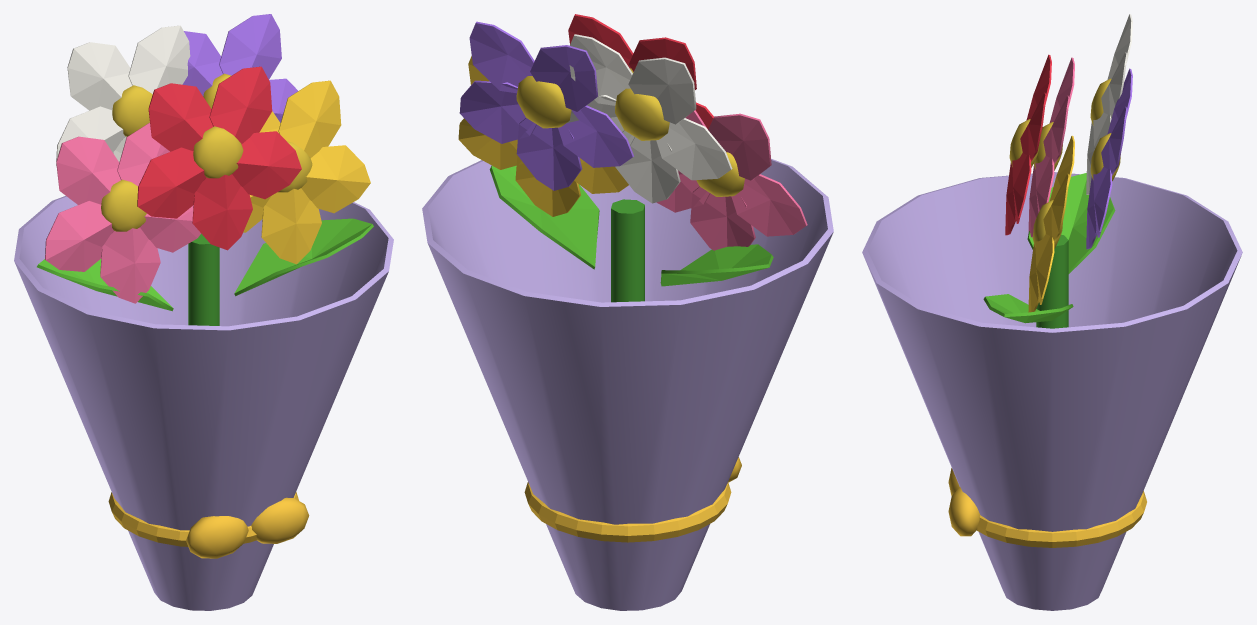
File: Pot_L9.fbx
3 renders of one model, left to right at view 1: azimuth 30°, elevation 25°; view 2: azimuth 150°, elevation 25°; view 3: azimuth 270°, elevation 25°, orthographic. The views are drawn at different scales.
Parts seen in each view (by area): view 1: L9_Wrap, L9_A_Petal_007, L9_B_Petal_007, L9_B_Petal_008, L9_A_Petal_009, L9_A_Petal_008, L9_D_Petal_008, L9_C_Petal_009, L9_A_Petal_006, L9_C_Petal_006, L9_B_Petal_006, L9_A_Petal_010 (+18 smaller); view 2: L9_Wrap, L9_Leaf_R, L9_Ribbon, L9_Stem, L9_B_Petal_007, L9_D_Petal_007, L9_E_Petal_009, L9_E_Petal_007, L9_E_Petal_010, L9_D_Petal_008, L9_E_Petal_008, L9_E_Petal_006 (+14 smaller); view 3: L9_Wrap, L9_Ribbon, L9_Leaf_L, L9_Stem, L9_Leaf_R, L9_Bow_R, L9_C_Petal_010, L9_A_Petal_010, L9_E_Petal_010, L9_C_Petal_009, L9_B_Petal_009, L9_A_Petal_009 (+10 smaller).
Boxes of the visible parts, x1,y1,x2,y2 form: L9_Wrap: [14, 196, 393, 610]; L9_A_Petal_007: [137, 147, 205, 218]; L9_B_Petal_007: [45, 201, 113, 271]; L9_B_Petal_008: [56, 136, 120, 204]; L9_A_Petal_009: [209, 66, 272, 144]; L9_A_Petal_008: [148, 83, 213, 151]; L9_D_Petal_008: [67, 42, 132, 110]; L9_C_Petal_009: [278, 80, 341, 158]; L9_A_Petal_006: [192, 174, 252, 250]; L9_C_Petal_006: [261, 188, 321, 264]; L9_B_Petal_006: [100, 227, 160, 303]; L9_A_Petal_010: [232, 131, 301, 199]; L9_Wrap: [422, 158, 833, 610]; L9_Leaf_R: [489, 165, 599, 269]; L9_Ribbon: [524, 482, 731, 542]; L9_Stem: [611, 199, 644, 302]; L9_B_Petal_007: [731, 174, 807, 236]; L9_D_Petal_007: [656, 118, 732, 180]; L9_E_Petal_009: [469, 21, 534, 93]; L9_E_Petal_007: [558, 105, 633, 167]; L9_E_Petal_010: [459, 80, 536, 143]; L9_D_Petal_008: [628, 57, 696, 124]; L9_E_Petal_008: [530, 45, 597, 111]; L9_E_Petal_006: [516, 118, 582, 190]; L9_Wrap: [862, 172, 1242, 610]; L9_Ribbon: [976, 491, 1146, 547]; L9_Leaf_L: [1027, 173, 1115, 273]; L9_Stem: [1036, 234, 1068, 328]; L9_Leaf_R: [983, 294, 1073, 323]; L9_Bow_R: [948, 487, 979, 536]; L9_C_Petal_010: [1035, 234, 1054, 304]; L9_A_Petal_010: [1012, 153, 1031, 223]; L9_E_Petal_010: [1093, 167, 1112, 237]; L9_C_Petal_009: [1043, 173, 1069, 242]; L9_B_Petal_009: [1043, 95, 1069, 164]; L9_A_Petal_009: [1020, 92, 1046, 161].
Bounding box in the file's own units: 32.94 × 50.91 × 32.94.
